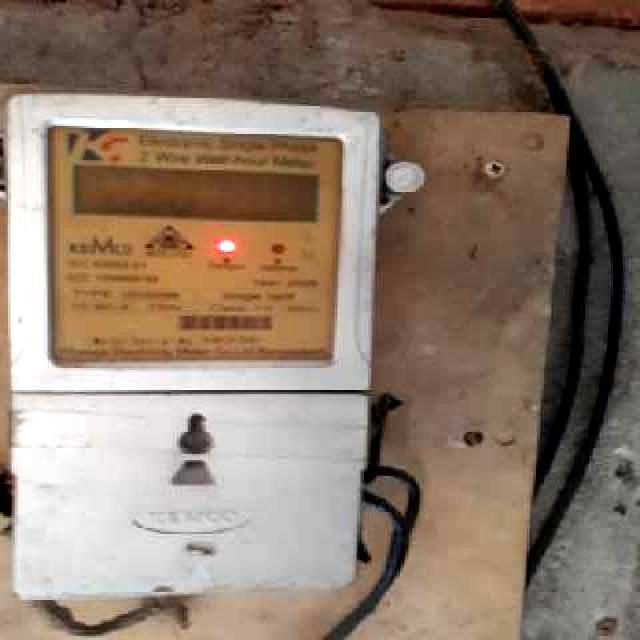LCD: (65, 159, 325, 228)
